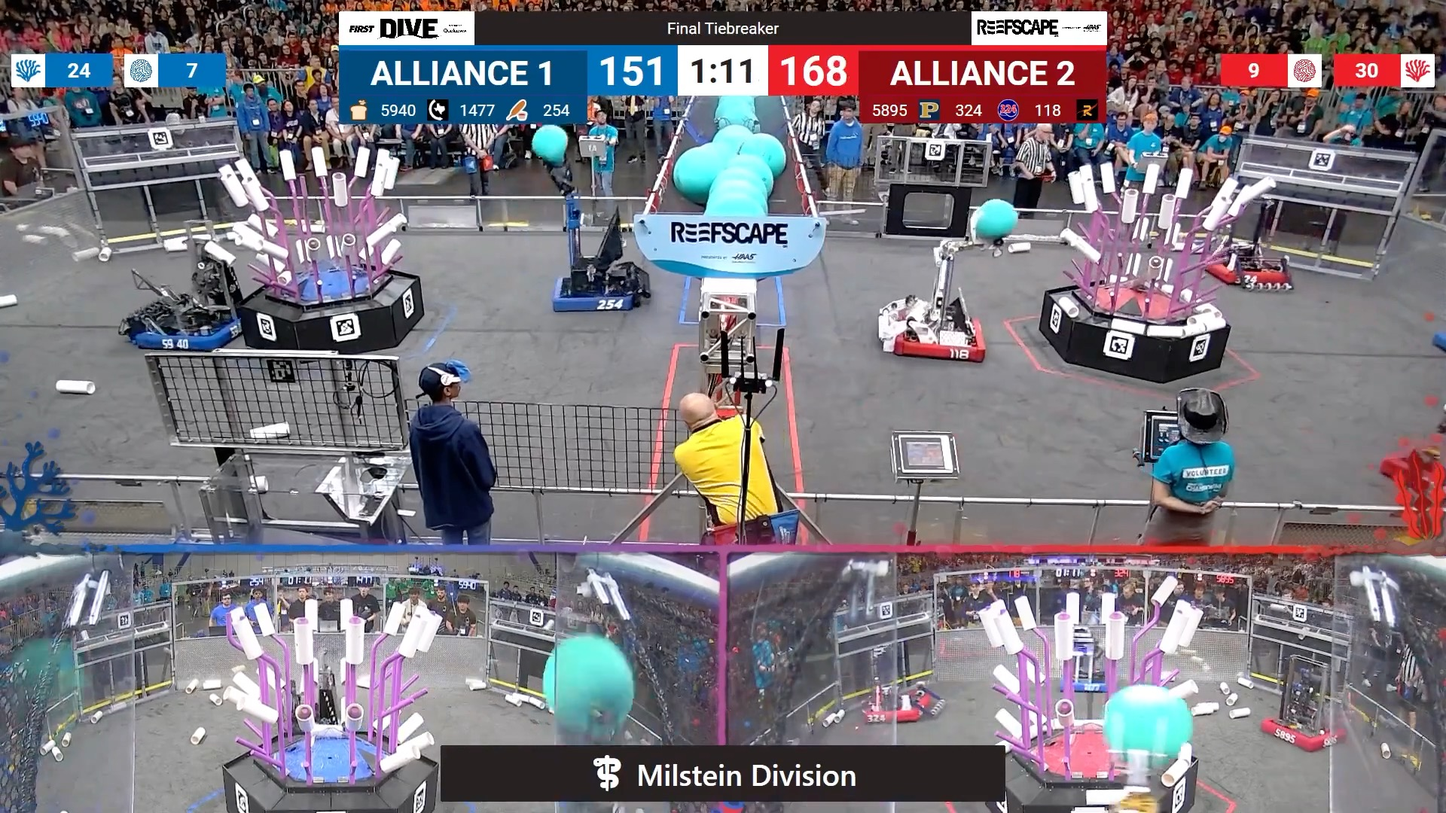bumpers: (124, 298, 245, 355), (884, 312, 998, 371), (547, 269, 649, 321), (1193, 254, 1296, 294), (1253, 711, 1348, 754), (862, 690, 940, 728), (1425, 320, 1446, 371)
